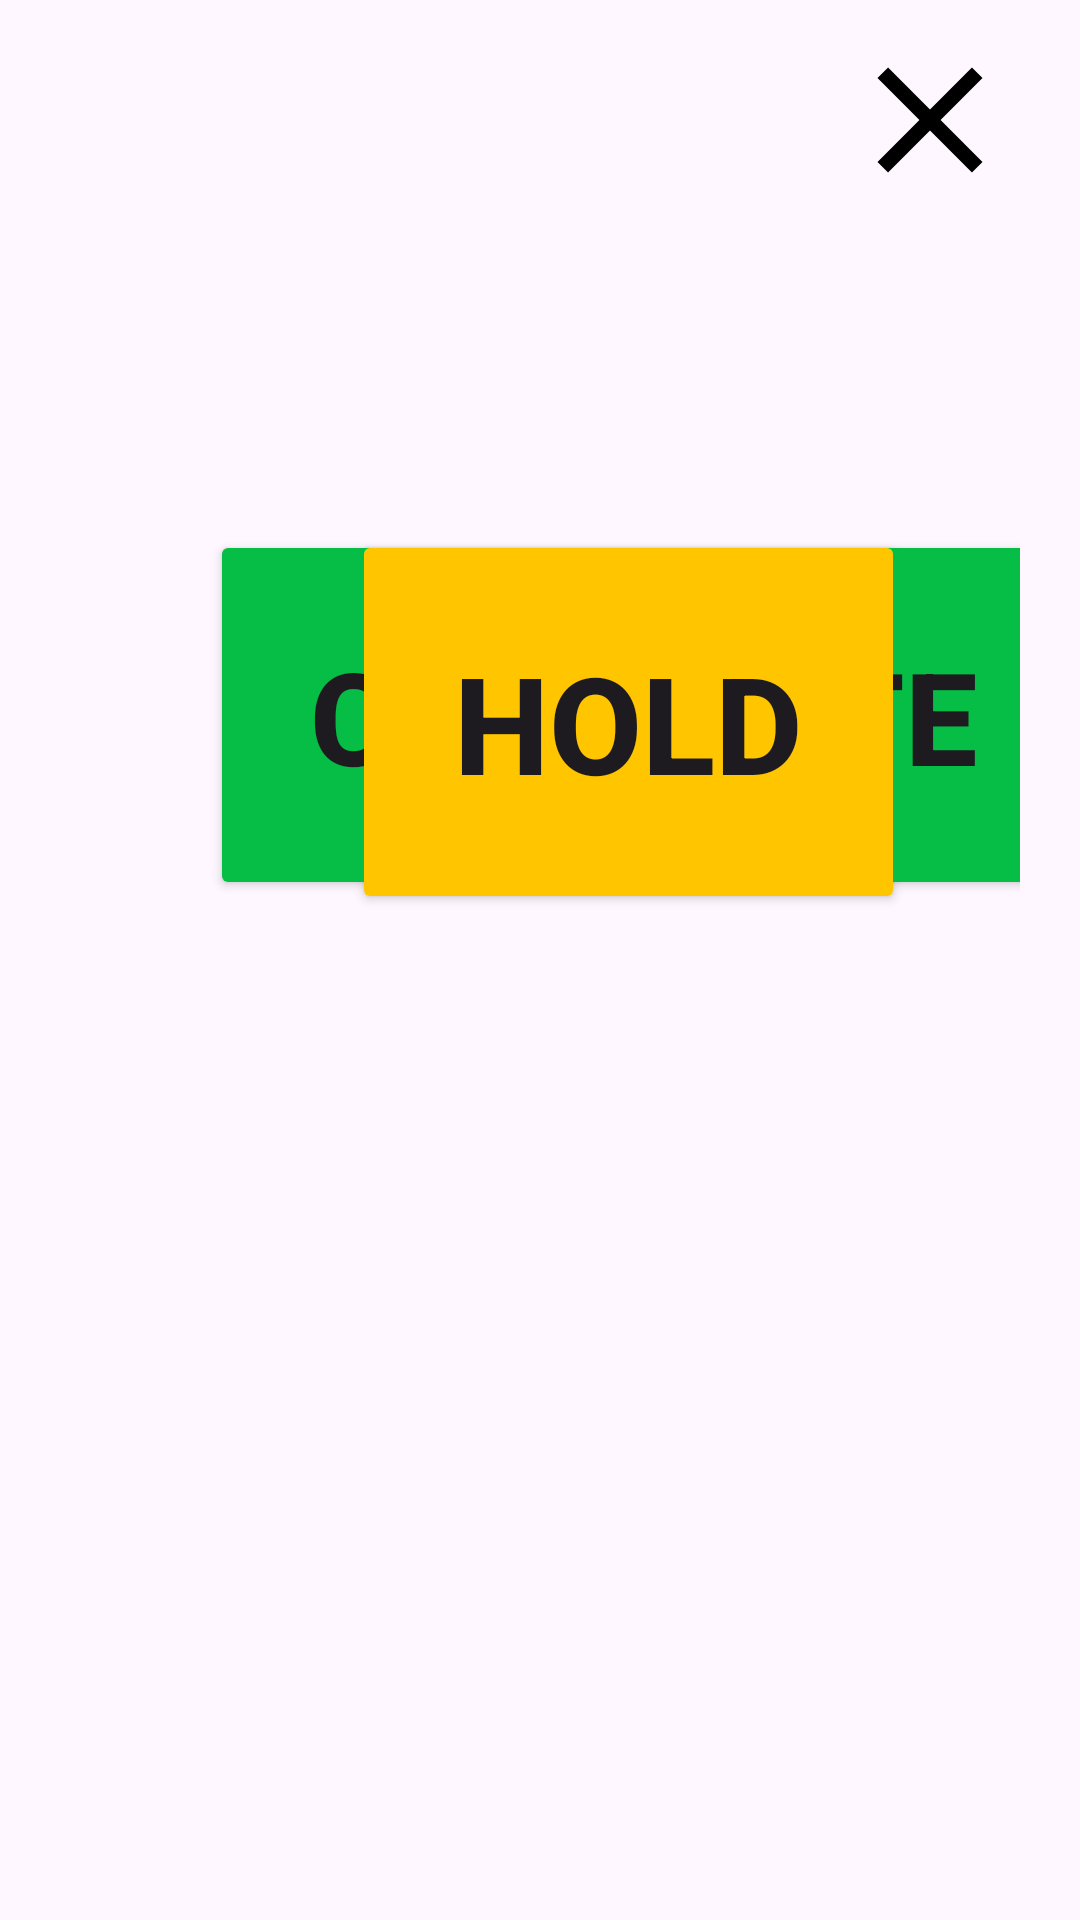

Screen size 1080w x 1920h. Icon name, then its box in pixels as bbox=(x1, y1, x2, y2):
close: bbox=(877, 67, 983, 173)
